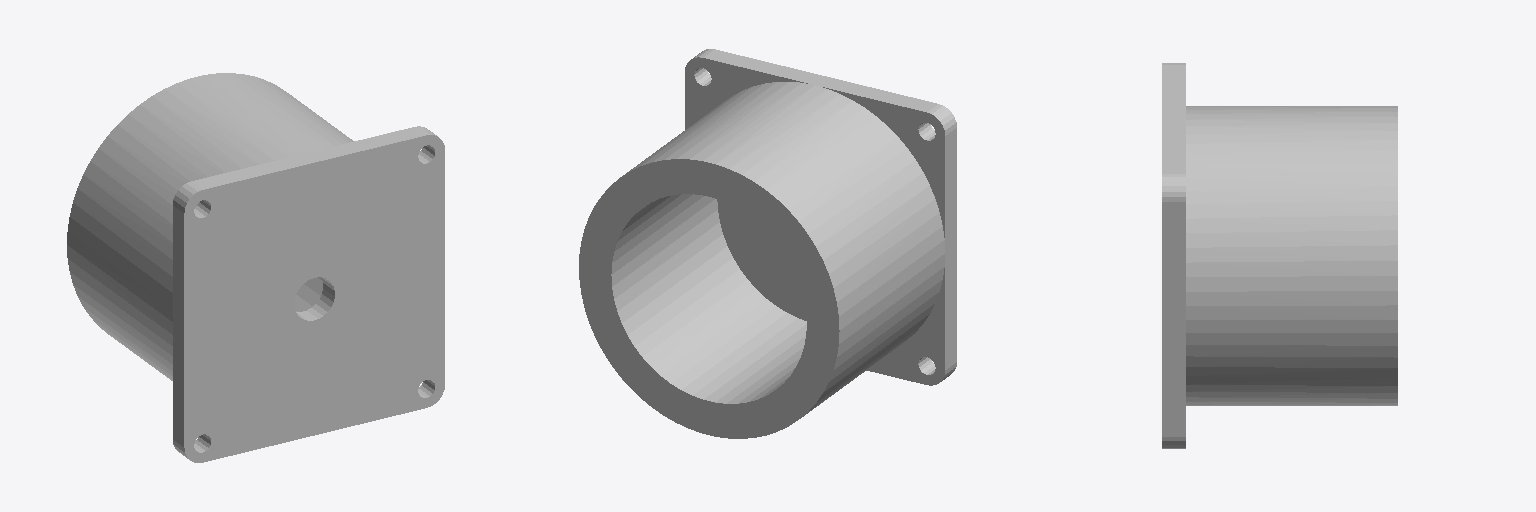
Rendered from gearboxCore.obj.
3 renders of one model, left to right at view 1: azimuth 30°, elevation 25°; view 2: azimuth 150°, elevation 25°; view 3: azimuth 270°, elevation 25°, orthographic.
Parts seen in each view (by area): view 1: Body1; view 2: Body1; view 3: Body1.
Boxes of the visible parts, x1,y1,x2,y2 form: Body1: [67, 73, 444, 462]; Body1: [579, 49, 956, 438]; Body1: [1162, 63, 1397, 448].
Bounding box in the file's own units: 6.4 × 6.4 × 5.